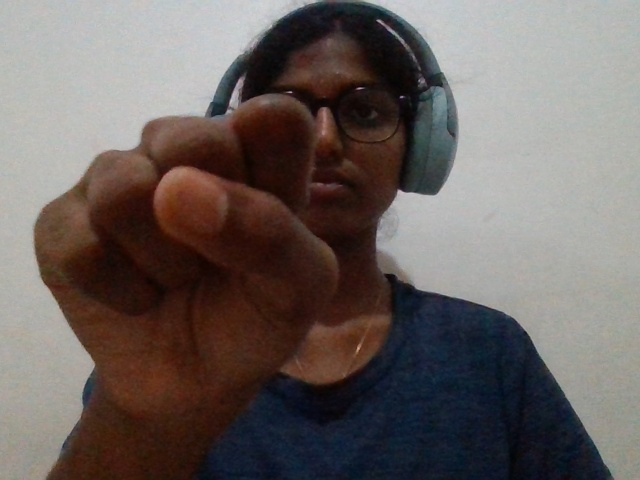Yes: (16, 84, 349, 446)
